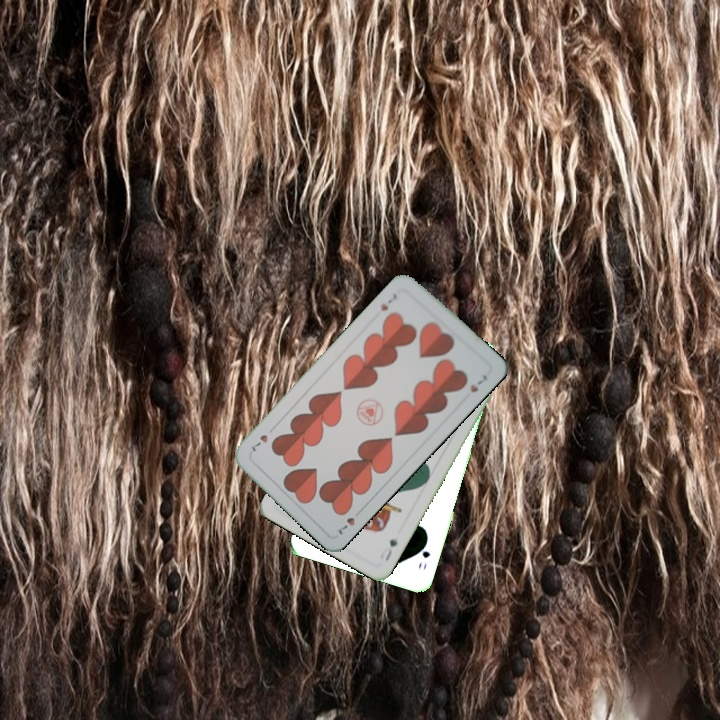GO: (414, 536, 433, 572)
GU: (381, 535, 400, 563)
H7: (334, 505, 365, 538), (377, 290, 400, 313)
